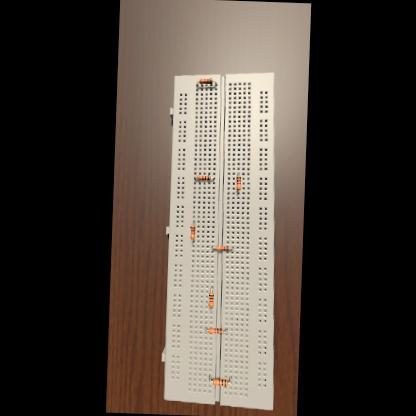breadboard: (159, 69, 285, 410)
resistor: (212, 378, 228, 386), (208, 292, 214, 308), (208, 328, 223, 334), (236, 176, 242, 190), (199, 78, 212, 84), (190, 225, 194, 240), (196, 176, 209, 180), (216, 247, 230, 250)
wire: (228, 378, 231, 384), (213, 80, 216, 86), (210, 374, 212, 382), (196, 81, 198, 86), (223, 329, 226, 332), (210, 177, 214, 179), (230, 247, 233, 249), (206, 327, 208, 330), (237, 190, 238, 194), (212, 246, 214, 248), (194, 178, 196, 180), (192, 240, 194, 242), (193, 222, 194, 225), (237, 173, 238, 175)
